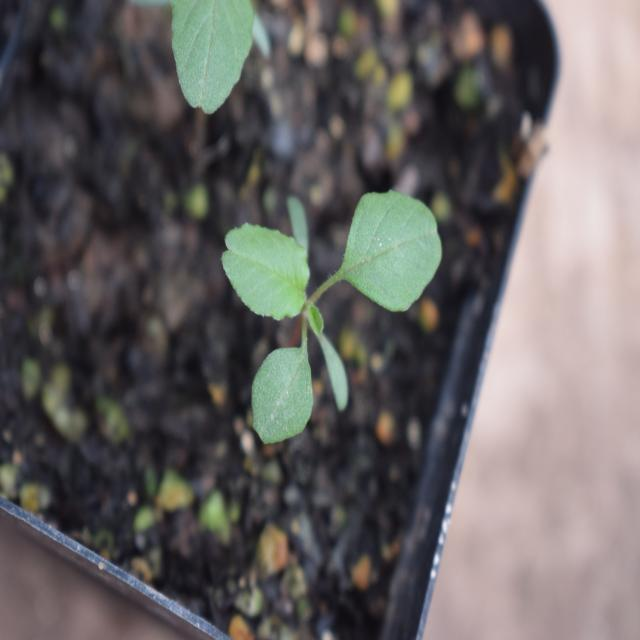pigweed: (212, 167, 448, 452)
